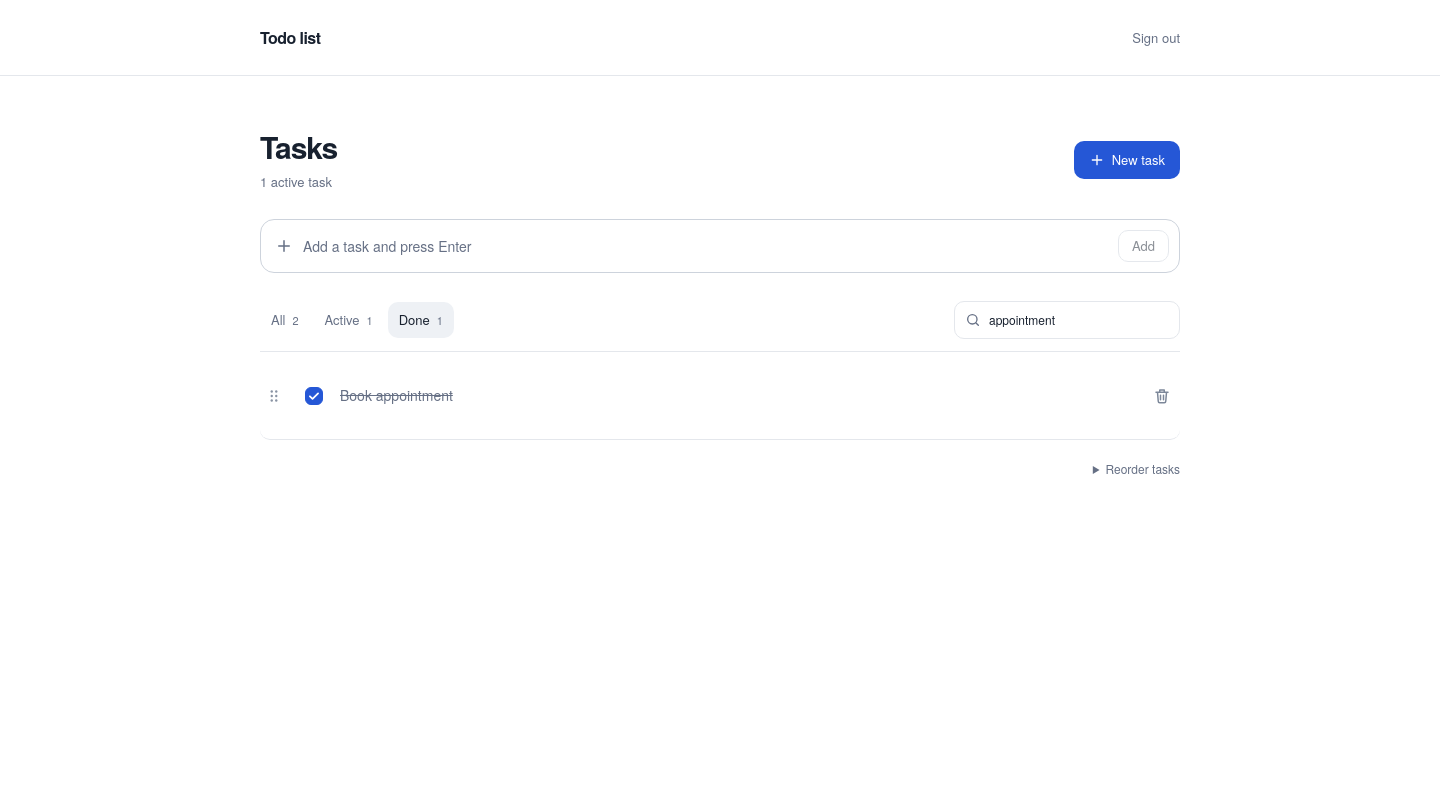
it: task list › preserves search and status after returning from details via delete
The width and height of the screenshot is (1440, 810).
Click the link "Book appointment" at (396,395), box [340,385,453,405]
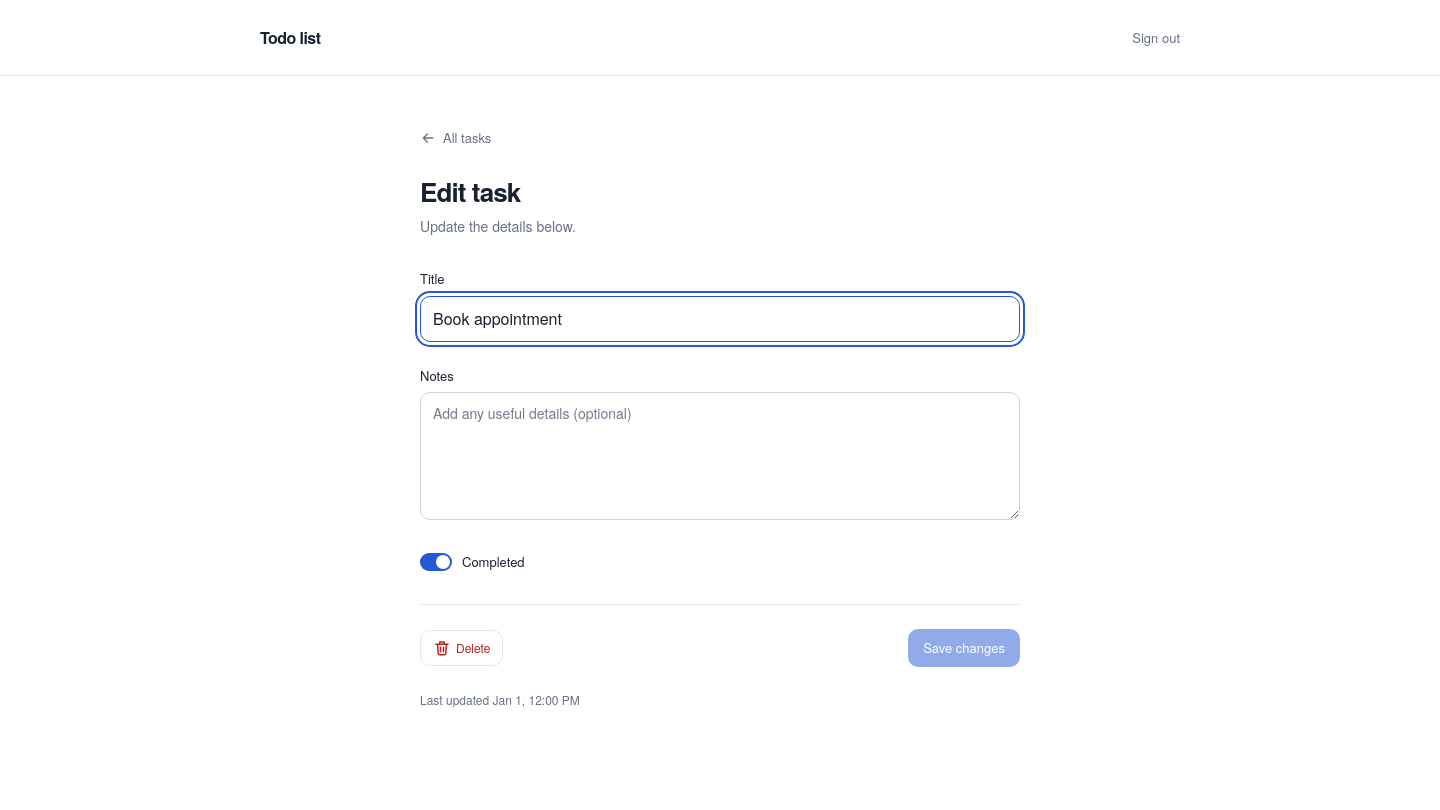
Expected: the field showing "Book appointment" is shown, [420,296,1020,342]
Click the button with aria-label "Delete Book appointment" at (462,648), box [420,630,503,666]
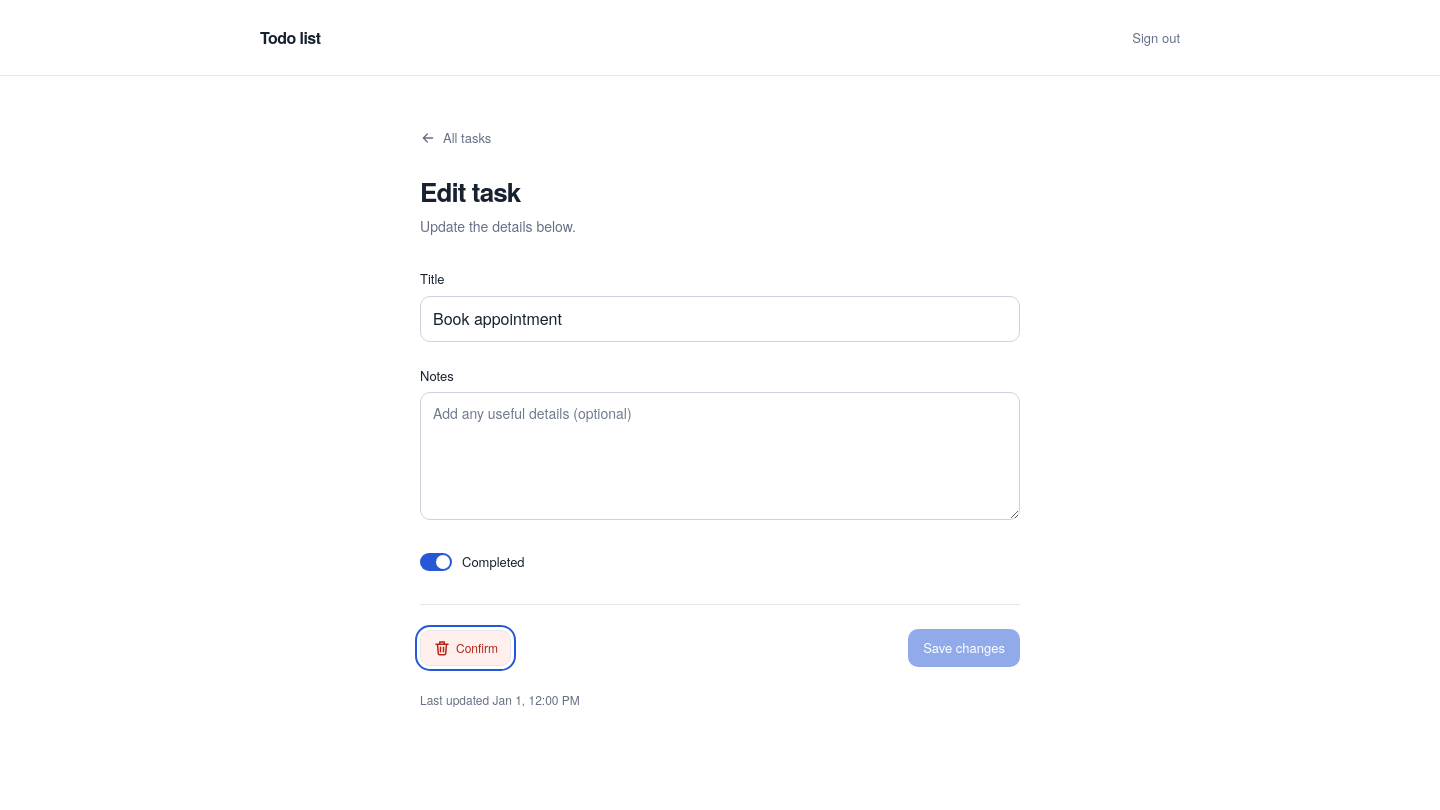
Click the button with aria-label "Confirm delete Book appointment" at (466,648), box [420,630,511,666]
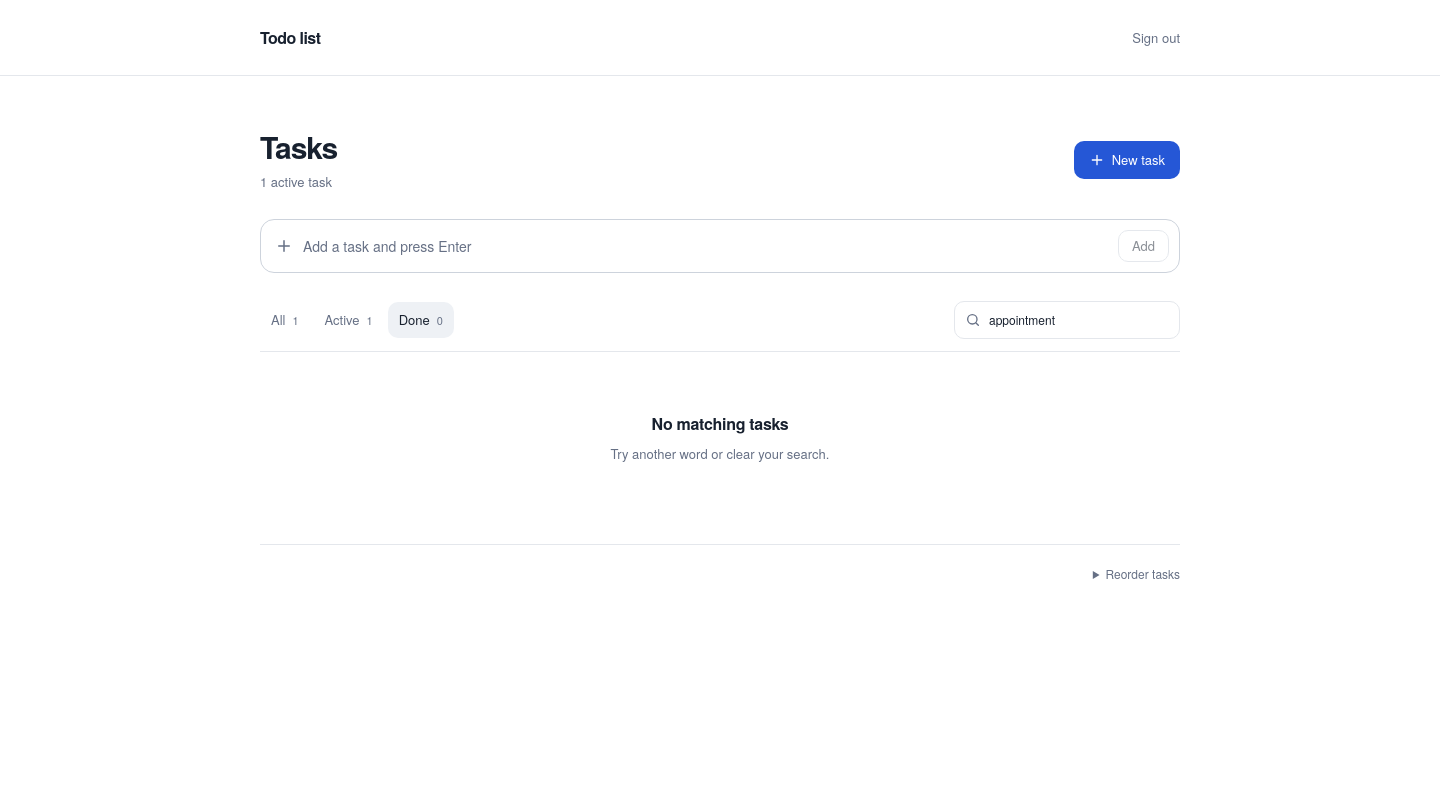
Expected: the heading "Tasks" is shown, [260,128,337,166]
Expected: the search field named "Search tasks" holds "appointment", [989,302,1169,338]
